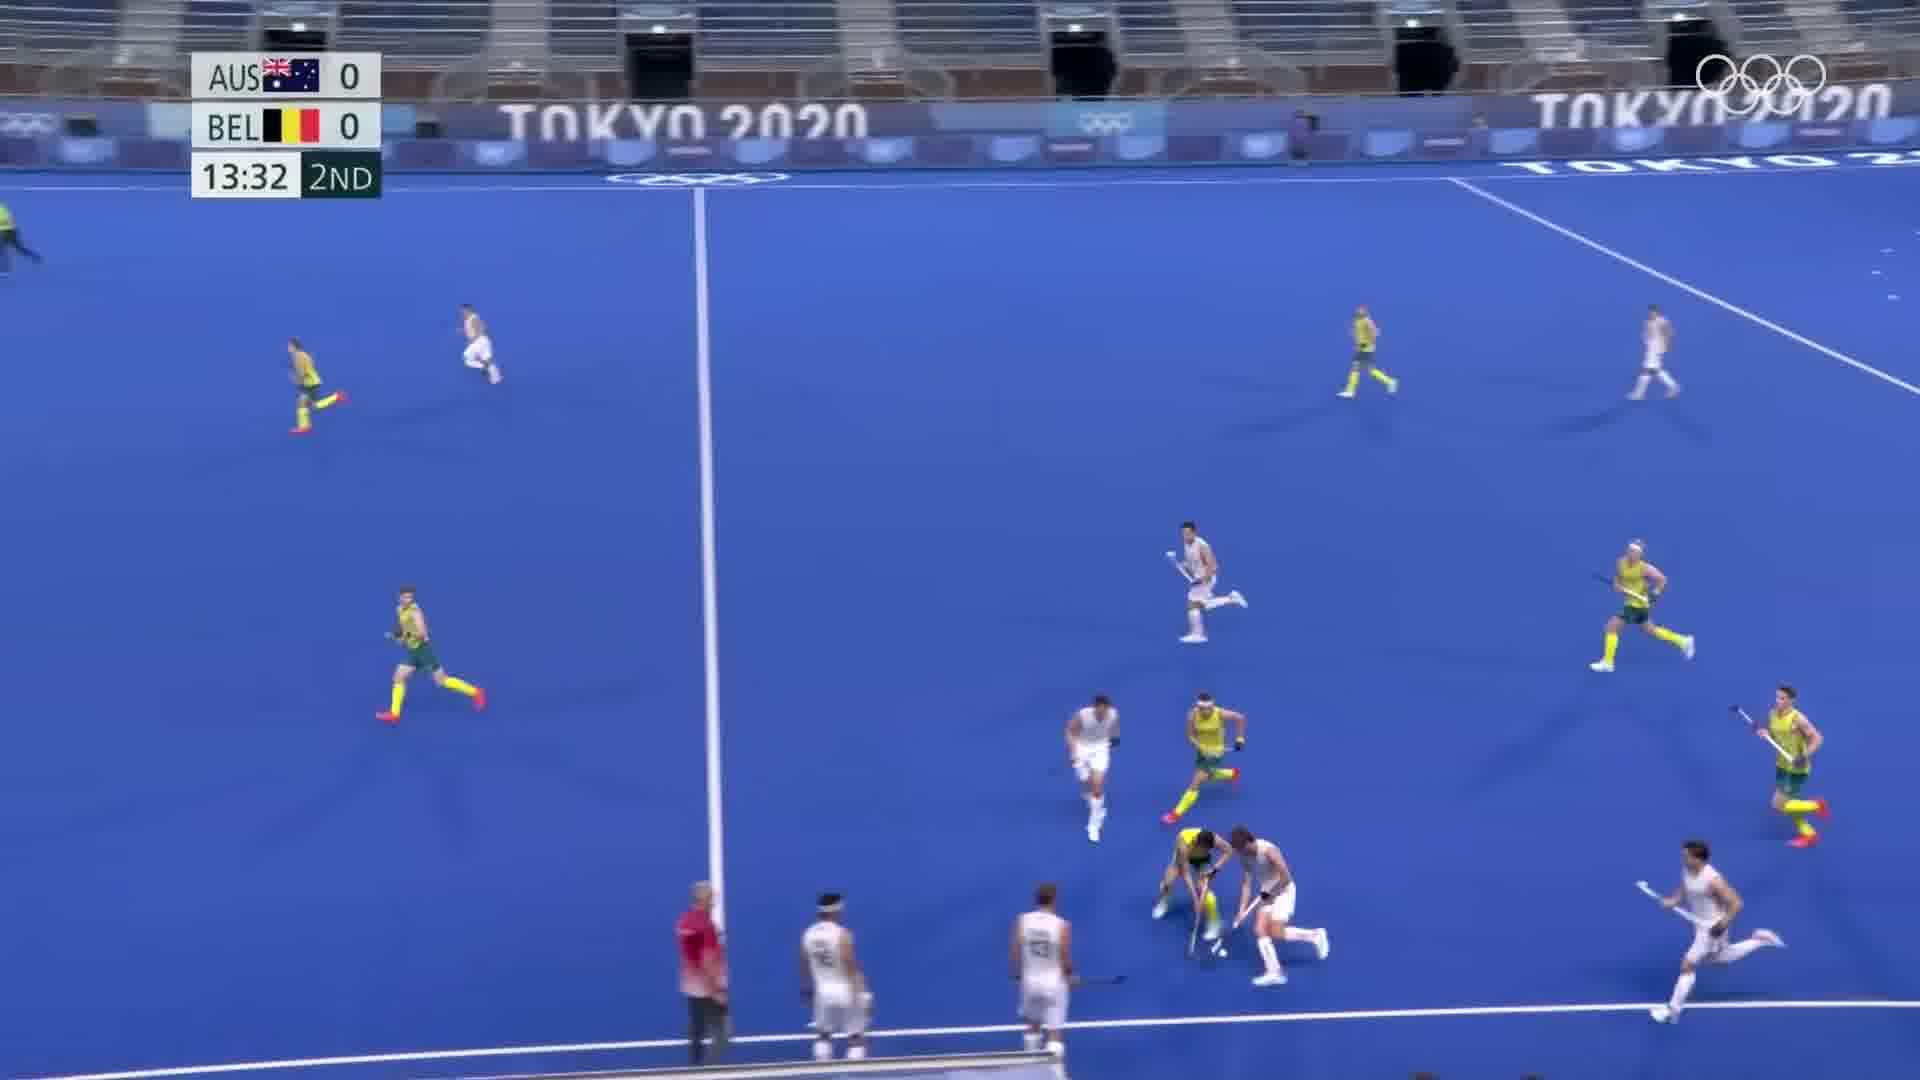ball: (1211, 940, 1234, 969)
